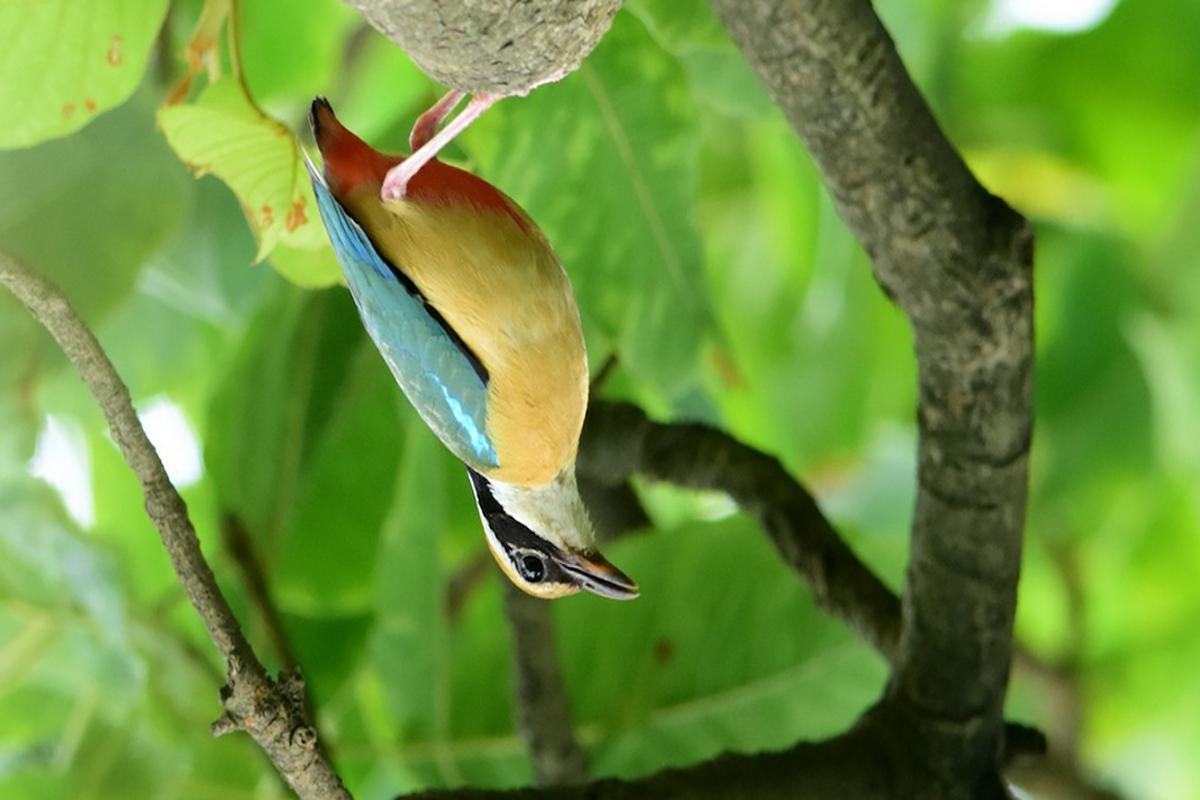pitta: (271, 65, 675, 622)
